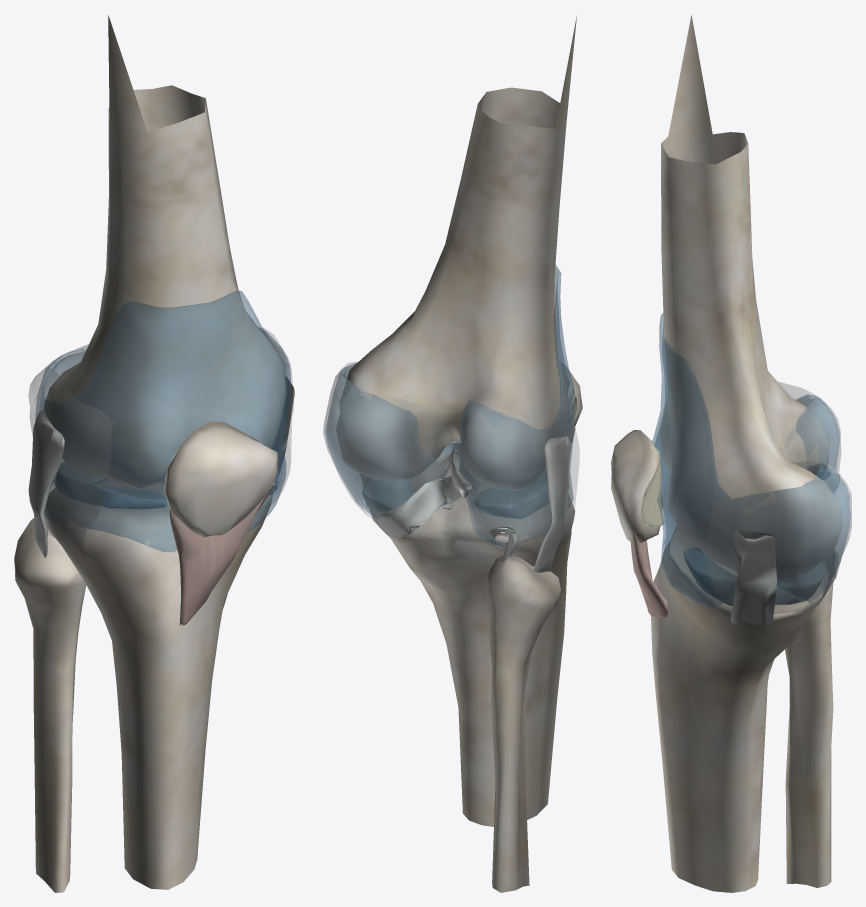
File: knee-joint.glb
3 views of the same model, side by side, from view 1: azimuth 30°, elevation 25°; view 2: azimuth 150°, elevation 25°; view 3: azimuth 270°, elevation 25° (orthographic). The views are drawn at different scales.
Parts seen in each view (by area): view 1: Right_femur, Right_synovial_membrane_of_knee_joint_and_suprapatellar_burs, Right_tibia, Right_fibula, Right_fibrous_layer_of_knee_joint, Right_patella, Right_patellar_ligament, Right_fibular_collateral_ligament, Right_lateral_meniscus_of_knee_joint, Right_medial_tibial_collateral_ligament; view 2: Right_femur, Right_fibrous_layer_of_knee_joint, Right_tibia, Right_synovial_membrane_of_knee_joint_and_suprapatellar_burs, Right_fibula, Right_oblique_popliteal_ligament, Right_fibular_collateral_ligament, Right_lateral_meniscus_of_knee_joint, Right_medial_meniscus_of_knee_joint; view 3: Right_femur, Right_tibia, Right_synovial_membrane_of_knee_joint_and_suprapatellar_burs, Right_fibrous_layer_of_knee_joint, Right_fibula, Right_medial_tibial_collateral_ligament, Right_patella, Right_medial_meniscus_of_knee_joint, Right_patellar_ligament, Right_patellar_articular_surface_of_patellofemoral_articulat, Right_oblique_popliteal_ligament.
Part boxes in pixels (x1,y1,x2,y2): Right_femur: [44, 15, 286, 489]; Right_synovial_membrane_of_knee_joint_and_suprapatellar_burs: [35, 290, 291, 552]; Right_tibia: [44, 478, 273, 889]; Right_fibula: [14, 515, 86, 892]; Right_fibrous_layer_of_knee_joint: [28, 328, 293, 549]; Right_patella: [163, 421, 278, 537]; Right_patellar_ligament: [169, 483, 274, 625]; Right_fibular_collateral_ligament: [28, 410, 65, 557]; Right_lateral_meniscus_of_knee_joint: [55, 462, 167, 509]; Right_medial_tibial_collateral_ligament: [273, 376, 294, 476]; Right_femur: [336, 16, 576, 489]; Right_fibrous_layer_of_knee_joint: [323, 361, 579, 557]; Right_tibia: [370, 452, 575, 826]; Right_synovial_membrane_of_knee_joint_and_suprapatellar_burs: [325, 265, 574, 547]; Right_fibula: [486, 555, 560, 892]; Right_oblique_popliteal_ligament: [375, 451, 473, 537]; Right_fibular_collateral_ligament: [533, 436, 571, 572]; Right_lateral_meniscus_of_knee_joint: [474, 469, 548, 518]; Right_medial_meniscus_of_knee_joint: [362, 443, 460, 512]; Right_femur: [660, 14, 841, 579]; Right_tibia: [651, 525, 825, 892]; Right_synovial_membrane_of_knee_joint_and_suprapatellar_burs: [652, 313, 850, 607]; Right_fibrous_layer_of_knee_joint: [708, 382, 851, 616]; Right_fibula: [785, 563, 833, 887]; Right_medial_tibial_collateral_ligament: [730, 530, 776, 625]; Right_patella: [611, 430, 660, 542]; Right_medial_meniscus_of_knee_joint: [683, 548, 824, 605]; Right_patellar_ligament: [630, 531, 668, 617]; Right_patellar_articular_surface_of_patellofemoral_articulat: [641, 448, 664, 527]; Right_oblique_popliteal_ligament: [817, 468, 840, 606].
Size of the model in its own units: 0.0904 by 0.3157 by 0.0794.
17 materials, 17 textured.
